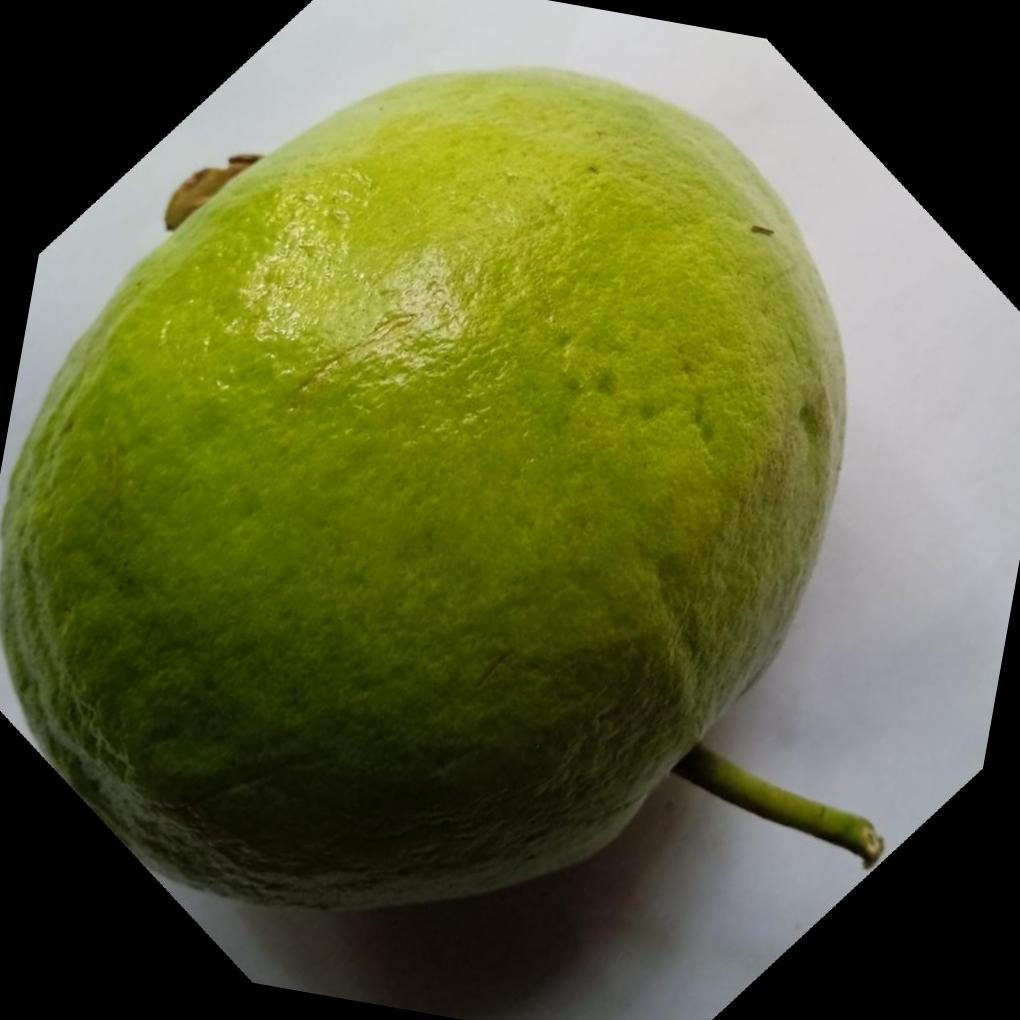FreshGuava: (0, 58, 850, 914)
